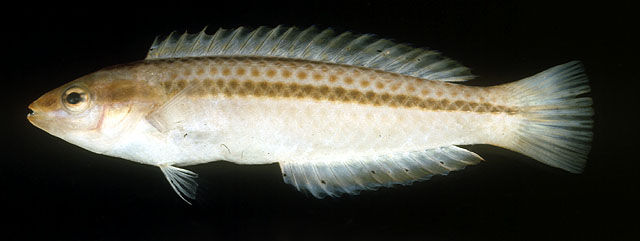fish: (25, 25, 596, 206)
